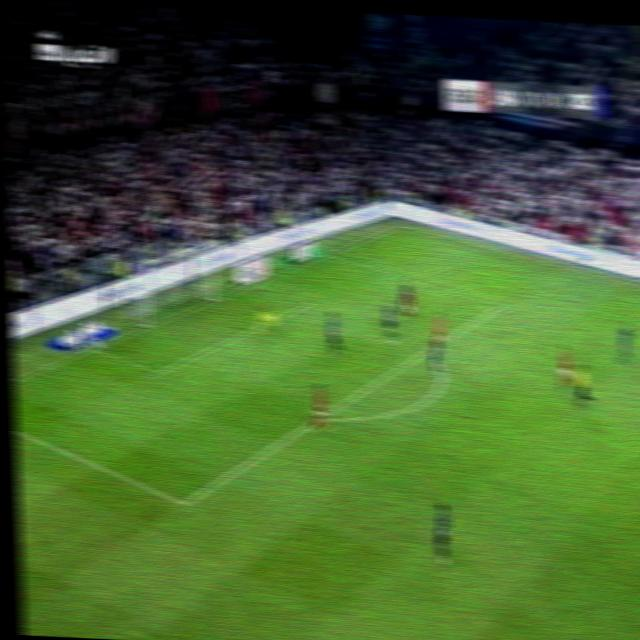bigarea_bottom_inner: (174, 489, 196, 514)
bigarea_top_inner: (491, 295, 510, 315)
bigarea_top_outter: (321, 245, 338, 262)
bottom_arc_area_intersection: (312, 410, 328, 425)
corner: (391, 218, 412, 231)
smallarea_bottom_inner: (146, 360, 168, 381)
smallarea_bottom_outter: (83, 338, 103, 355)
smallarea_top_inner: (302, 292, 319, 308)
smallarea_top_outter: (247, 276, 264, 291)
top_arc_area_intersection: (419, 342, 437, 358)
